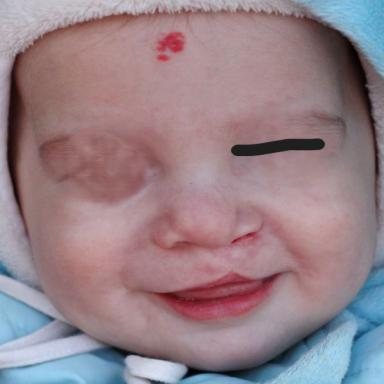Hemangiome: (157, 32, 185, 53), (157, 54, 168, 61)
